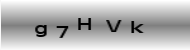7: (54, 25, 69, 38)
H: (76, 17, 92, 31)
V: (106, 19, 122, 32)
g: (33, 24, 47, 37)
k: (129, 19, 144, 34)
